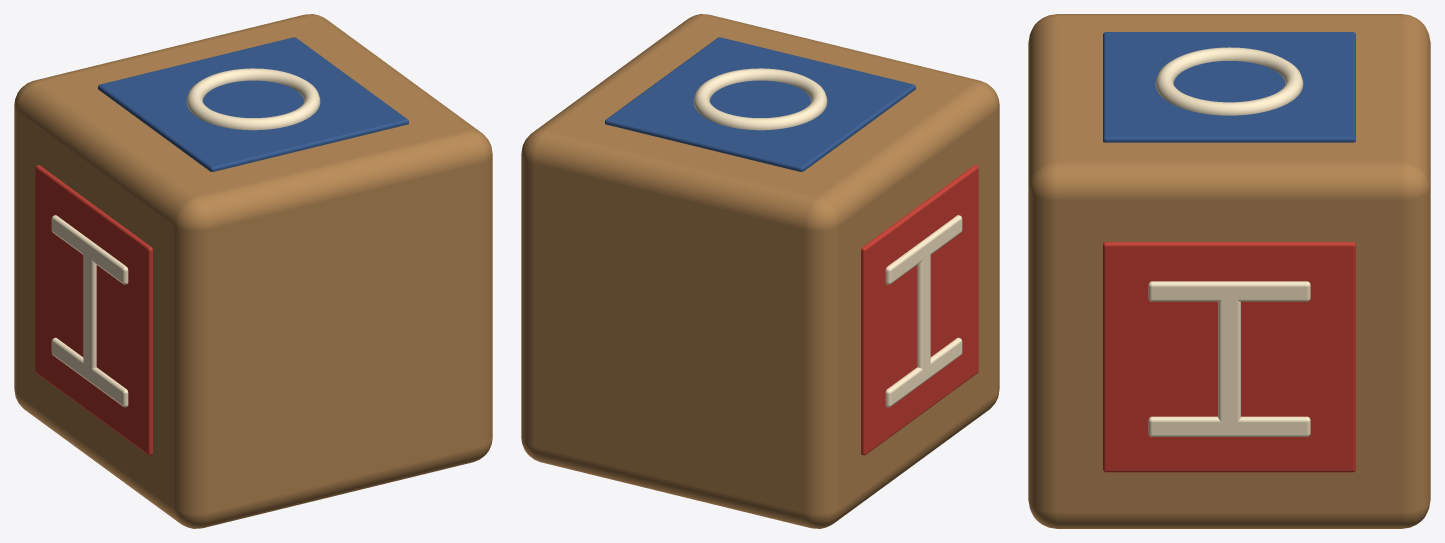
The model's file is wood-cube.glb.
3 views of the same model, side by side, from view 1: azimuth 30°, elevation 25°; view 2: azimuth 150°, elevation 25°; view 3: azimuth 270°, elevation 25° (orthographic). The views are drawn at different scales.
Visible parts, largest first — view 1: wood, red, blue, ivory; view 2: wood, red, blue, ivory; view 3: wood, red, blue, ivory.
Part boxes in pixels (box(x1,y1,x2,y2)): wood: box(14, 14, 492, 528); red: box(35, 165, 152, 455); blue: box(98, 37, 408, 171); ivory: box(51, 68, 320, 407); wood: box(521, 14, 999, 528); red: box(861, 165, 978, 455); blue: box(605, 37, 915, 171); ivory: box(693, 68, 962, 407); wood: box(1028, 14, 1430, 528); red: box(1103, 242, 1355, 472); blue: box(1103, 32, 1355, 142); ivory: box(1148, 47, 1310, 436).
Bounding box in the file's own units: 0.653 × 0.6646 × 0.62.
